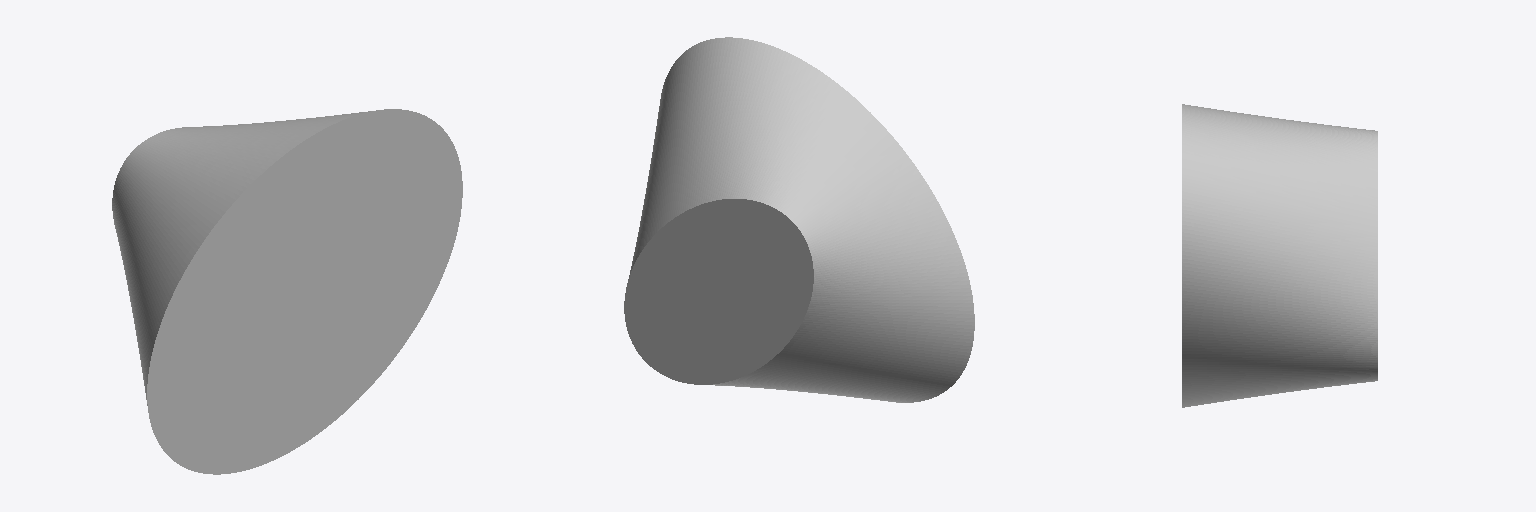
The model's file is zac_3.obj.
3 renders of one model, left to right at view 1: azimuth 30°, elevation 25°; view 2: azimuth 150°, elevation 25°; view 3: azimuth 270°, elevation 25°, orthographic.
Size of the model in its own units: 143 by 142 by 76.77.